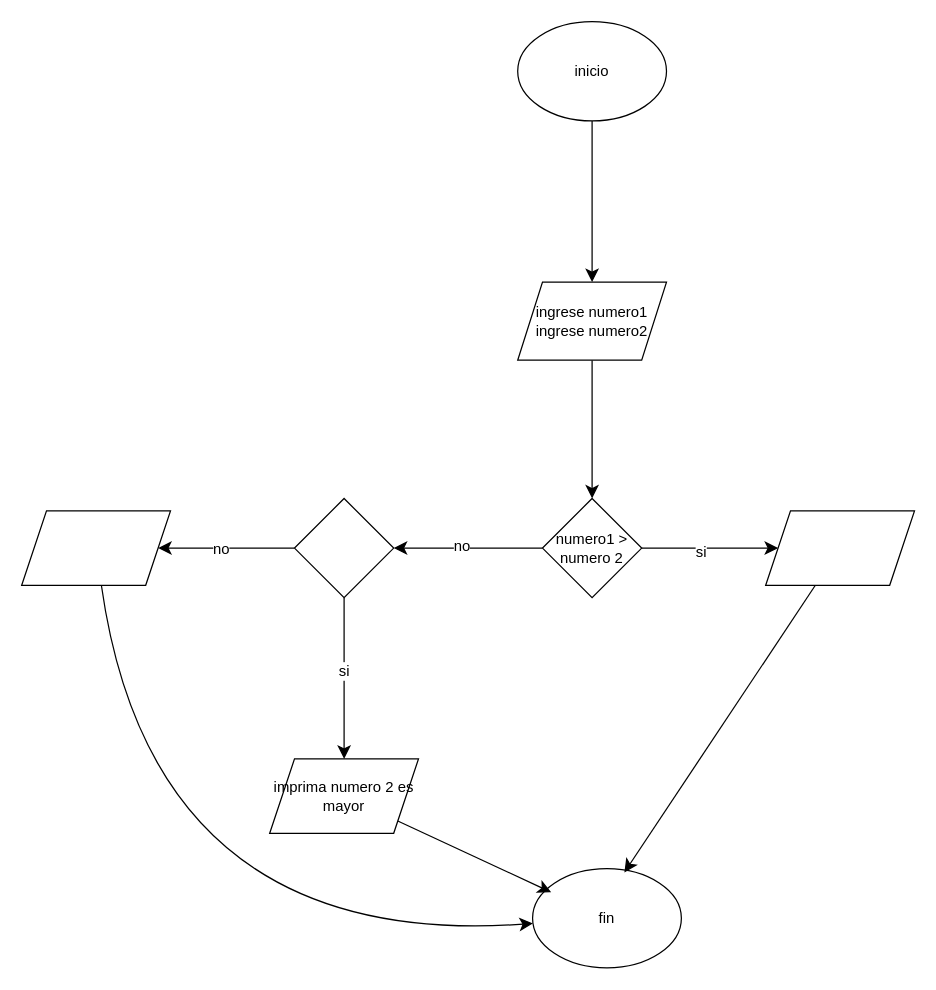
The diagram is 936 pixels wide and 990 high, and some of its shapes have lost their labels. Each missing label, with the box of its shape:
imprima los numeros son iguales: (20, 510, 170, 585)
imprima numero 1 es mayor: (764, 510, 914, 585)
numero 2> numero 1: (293, 497, 394, 598)
